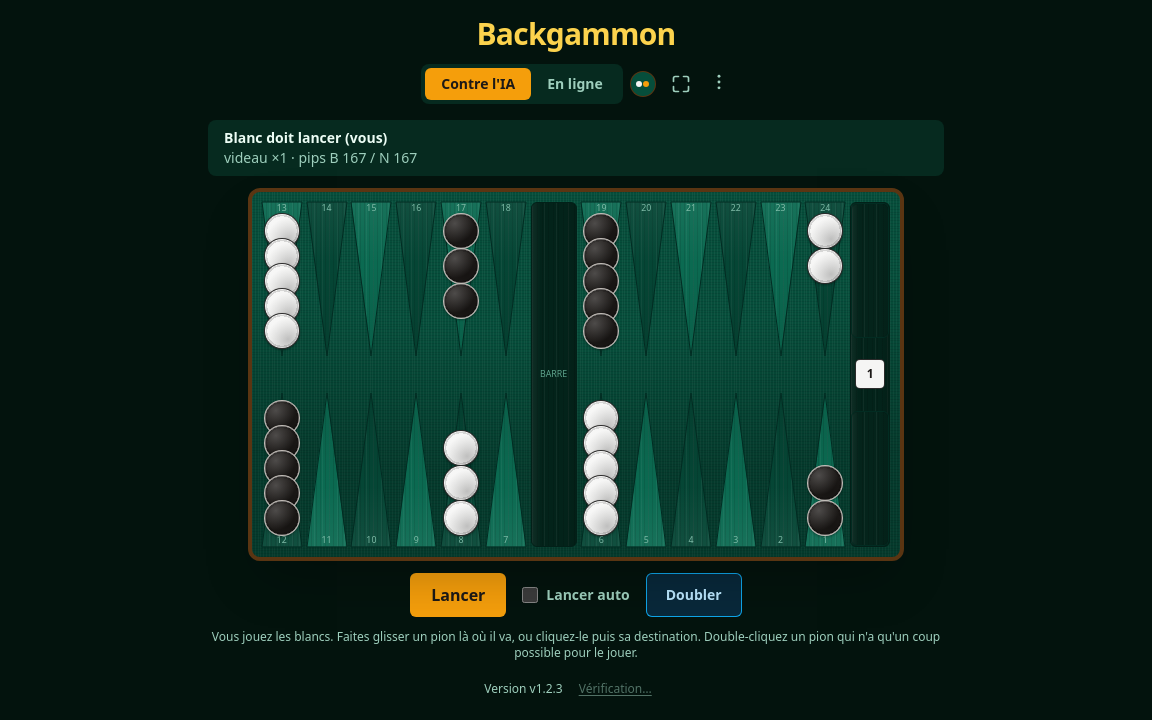
Test: the fullscreen layout › drops the hint, which has no row left to sit in
Expected: the text "Faites glisser un pion" is shown, [330, 628, 701, 645]
Click the button named "Plein écran".
click(681, 84)  # box [663, 66, 699, 102]
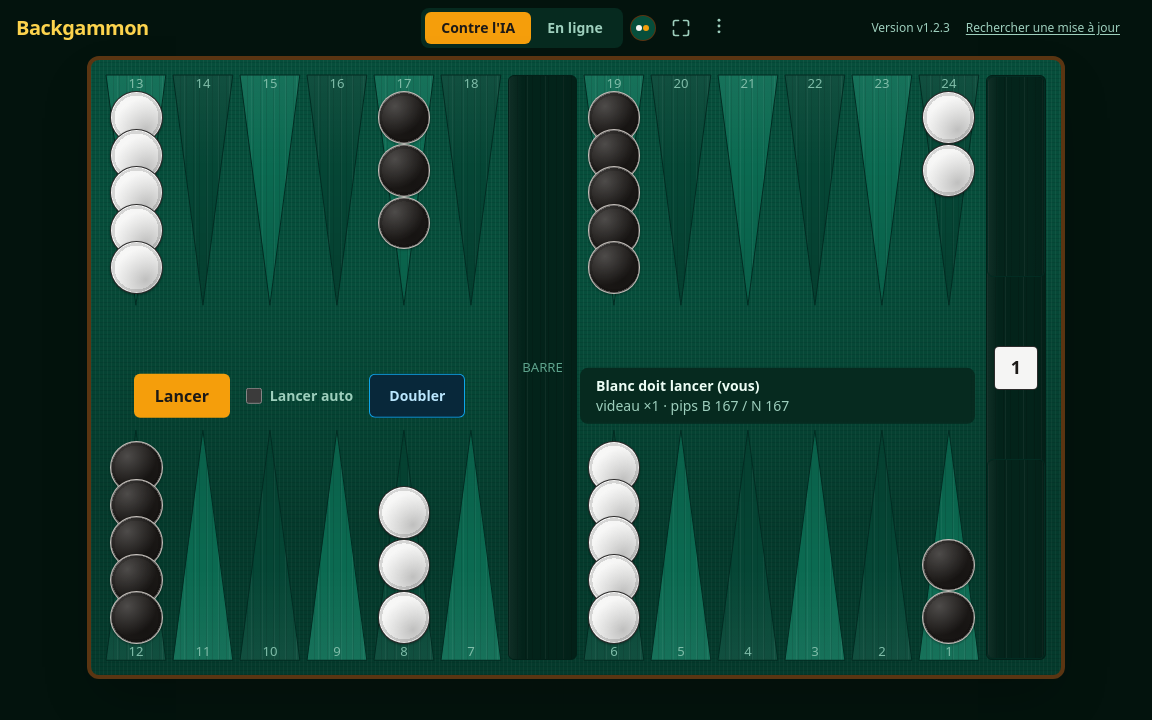
Now the text "Faites glisser un pion" is gone
